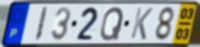2: (74, 6, 100, 43)
3: (50, 6, 73, 42)
8: (154, 6, 176, 42)
I: (33, 6, 50, 43)
K: (129, 6, 154, 41)
Q: (98, 6, 126, 42)
